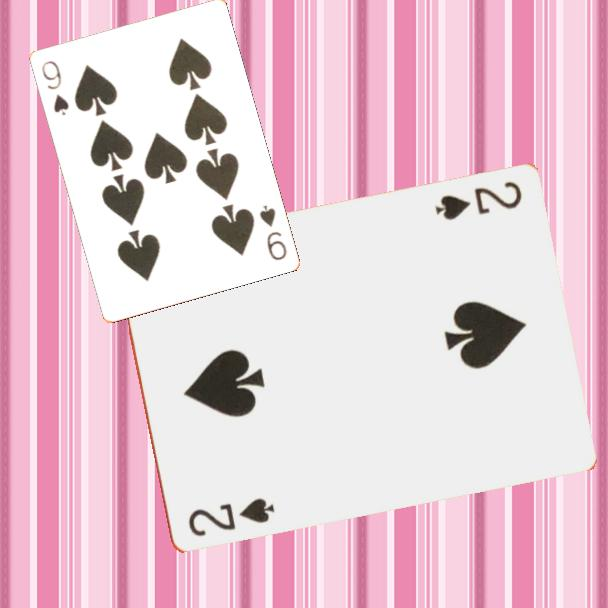s02: (431, 178, 525, 224), (184, 495, 278, 540)
s09: (255, 201, 289, 263), (38, 57, 71, 118)
